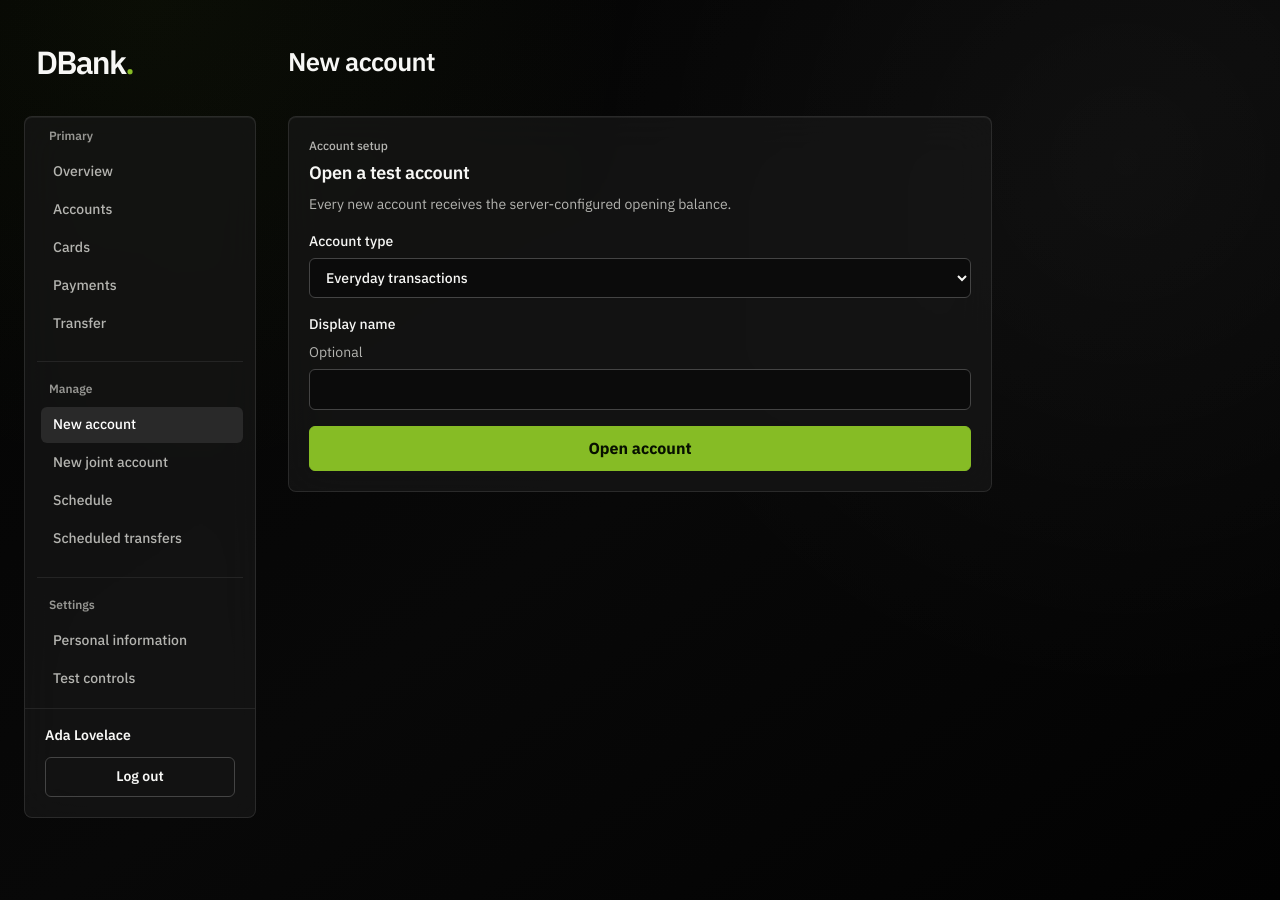
Test: Dashboard banking functions › creates one of the exact account types without sending an opening balance
Expected: the form with test id "account-create-form" is shown, left=309, top=231, right=971, bottom=471
Step 1. Select "Business" in the dropdown with test id "account-create-type" → (640, 278), box left=309, top=258, right=971, bottom=298
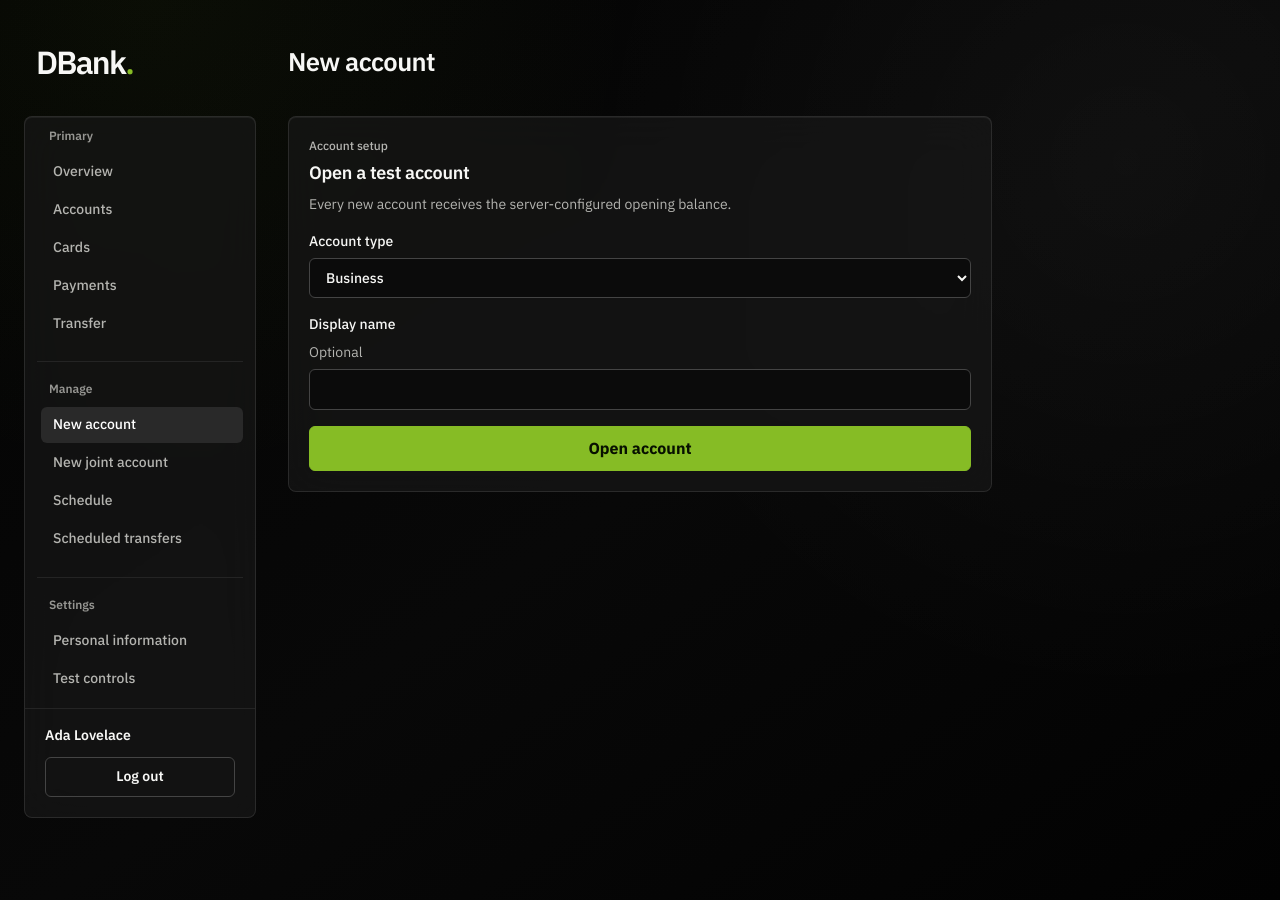
Step 2. Type "Testing Pty Ltd" into the field with test id "account-create-display-name" → (640, 390), box left=309, top=369, right=971, bottom=410
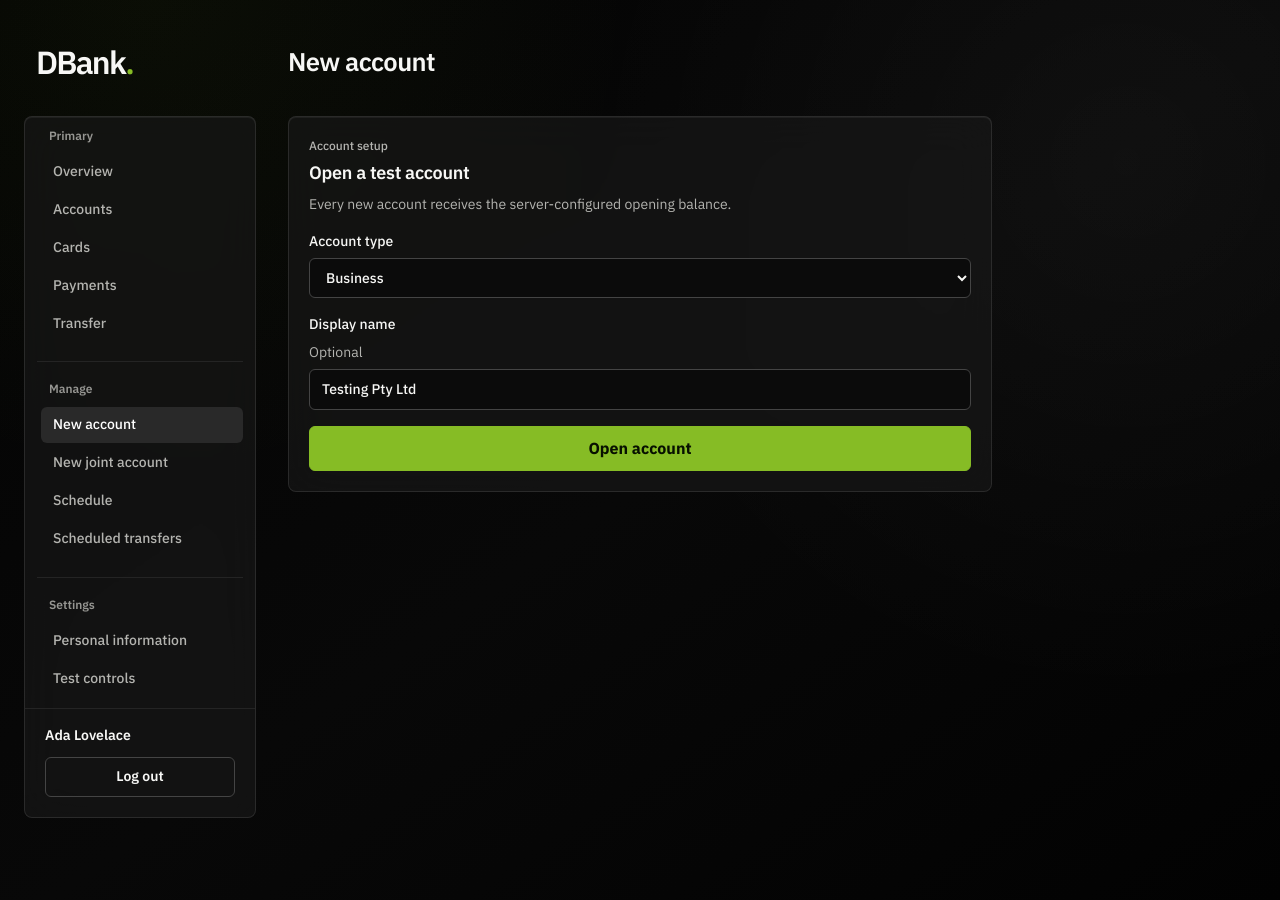
Step 3. Click the button with test id "account-create-submit" → (640, 448), box left=309, top=426, right=971, bottom=471
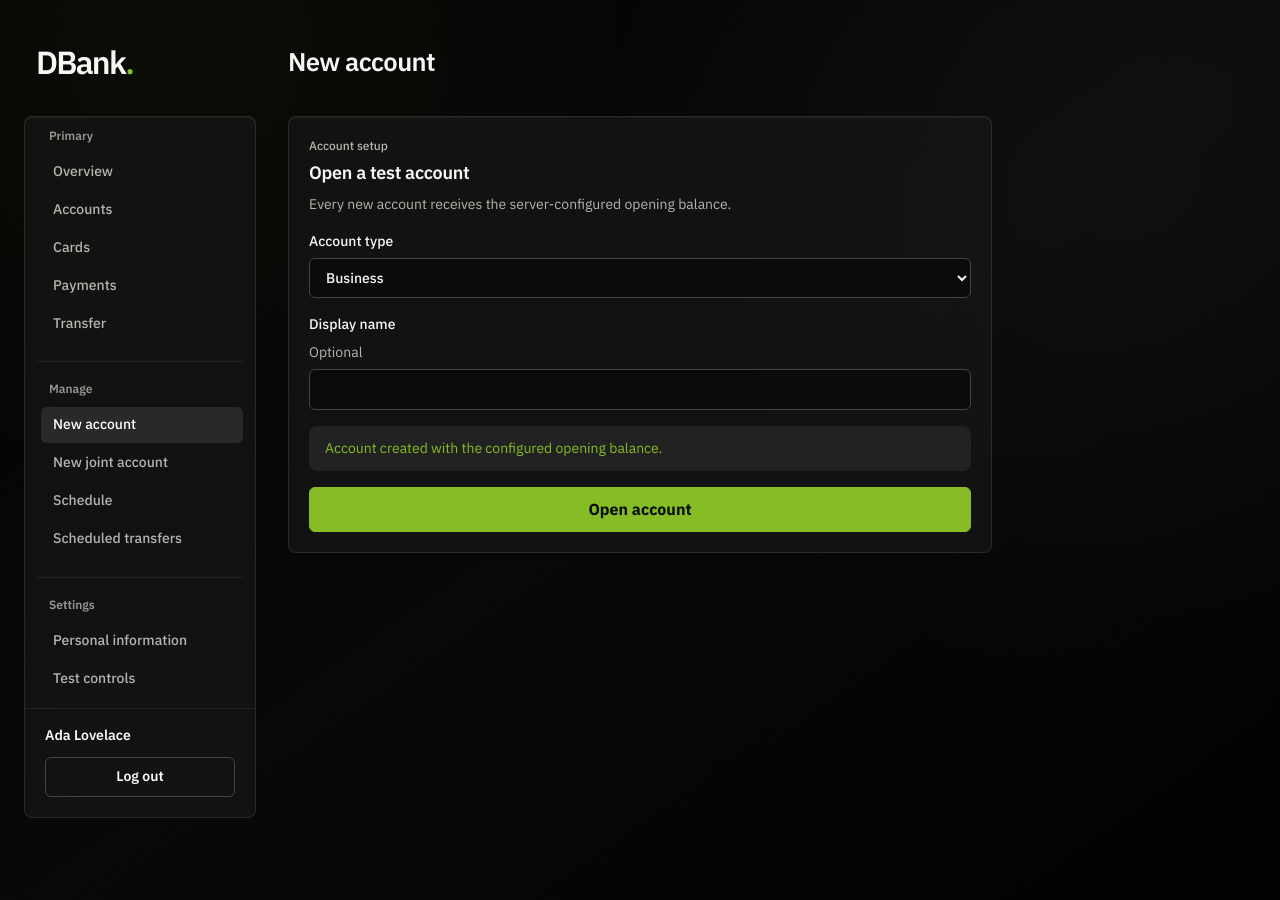
Expected: the message with test id "account-create-message" shows "configured opening balance", left=325, top=439, right=662, bottom=457
